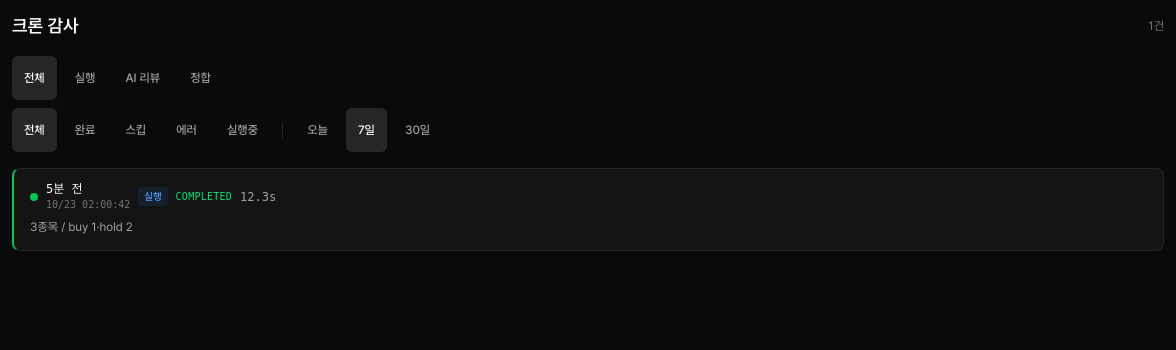
Test: CronRunsPage › renders reason and structured score components when decision detail is present
Expected: the text "COMPLETED" is shown, [176,189,232,204]
Click the button "5분 전 10/23 02:00:42 실행 COMPLETED 12.3s 3종목 / buy 1·hold 2" at (64, 189), box [14,169,1163,250]
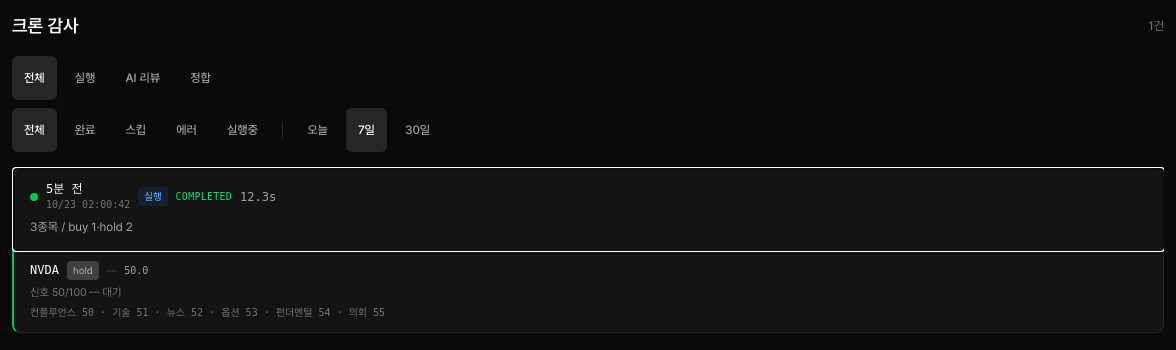
Expected: the text "NVDA" is shown, [30,262,59,278]
Expected: the text "신호 50/100 — 대기" is shown, [30,286,122,298]
Expected: the text "컨플루언스 50 · 기술 51 · 뉴스 52 · 옵션 53 · 펀더멘털 54 · 의회 55" is shown, [30,307,385,318]
